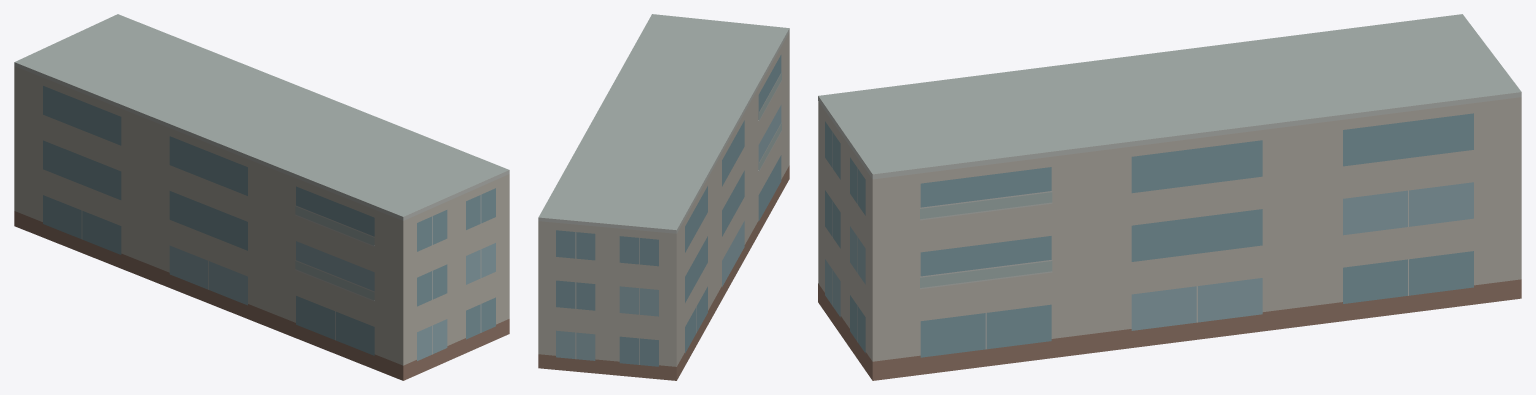
File: survey-upis-32725127.glb
The picture shows the model from 3 angles, left to right: view 1: azimuth 30°, elevation 25°; view 2: azimuth 150°, elevation 25°; view 3: azimuth 270°, elevation 25°; orthographic projection. The views are drawn at different scales.
Visible parts, largest first — view 1: survey-upis-32725127.tmp; view 2: survey-upis-32725127.tmp; view 3: survey-upis-32725127.tmp.
Part boxes in pixels (box(x1,y1,x2,y2)): survey-upis-32725127.tmp: box(14, 14, 509, 380); survey-upis-32725127.tmp: box(538, 14, 789, 380); survey-upis-32725127.tmp: box(818, 14, 1521, 380).
Size of the model in its own units: 16.67 by 10 by 30.89.
